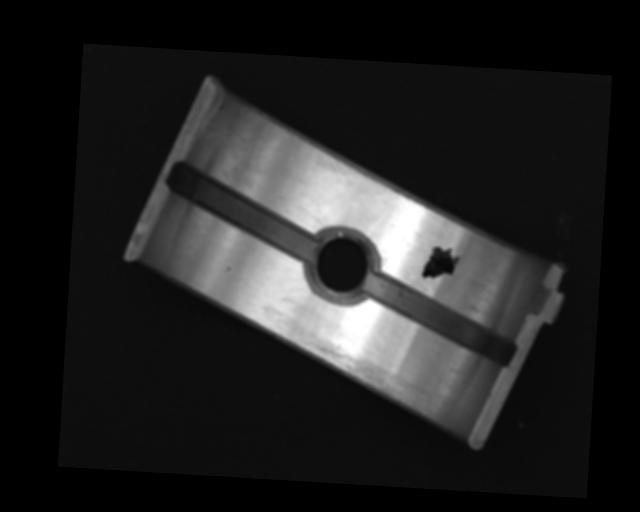blot: (419, 245, 462, 282)
bruise: (224, 266, 234, 274)
gap: (164, 163, 320, 262), (360, 274, 519, 365)
hole: (305, 225, 379, 304)
scratch: (291, 338, 434, 417)
